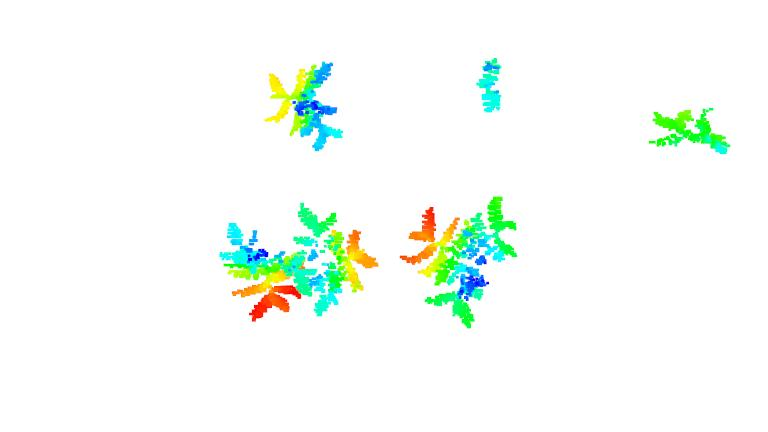chickpea: (395, 195, 523, 331), (286, 199, 380, 316), (217, 219, 302, 322), (265, 58, 347, 152), (646, 105, 733, 159), (475, 56, 505, 114)
